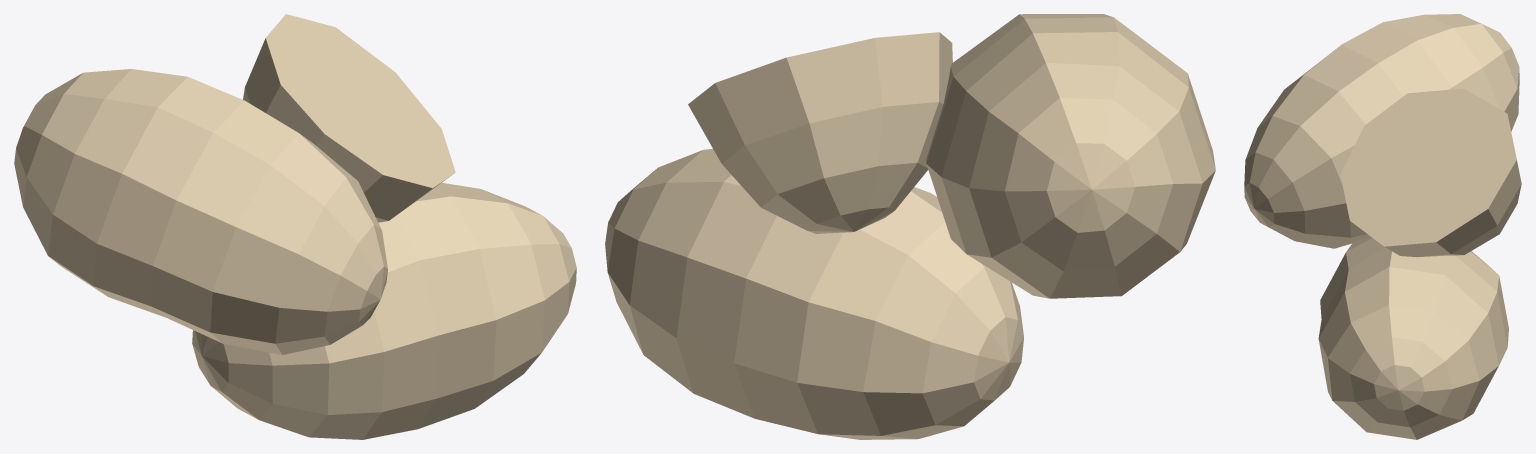
The model's file is fruit_seed.glb.
The picture shows the model from 3 angles, left to right: view 1: azimuth 30°, elevation 25°; view 2: azimuth 150°, elevation 25°; view 3: azimuth 270°, elevation 25°; orthographic projection. The views are drawn at different scales.
Visible parts, largest first — view 1: pSphere25; view 2: pSphere25; view 3: pSphere25.
Boxes of the visible parts, box(x1,y1,x2,y2) form: pSphere25: box(14, 14, 576, 439); pSphere25: box(605, 14, 1215, 439); pSphere25: box(1244, 14, 1521, 439).
Size of the model in its own units: 1.8 by 1.3 by 1.07.
